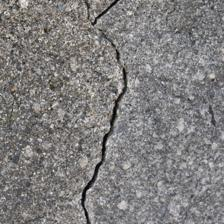Crack: (0, 19, 145, 45), (10, 52, 122, 66)
